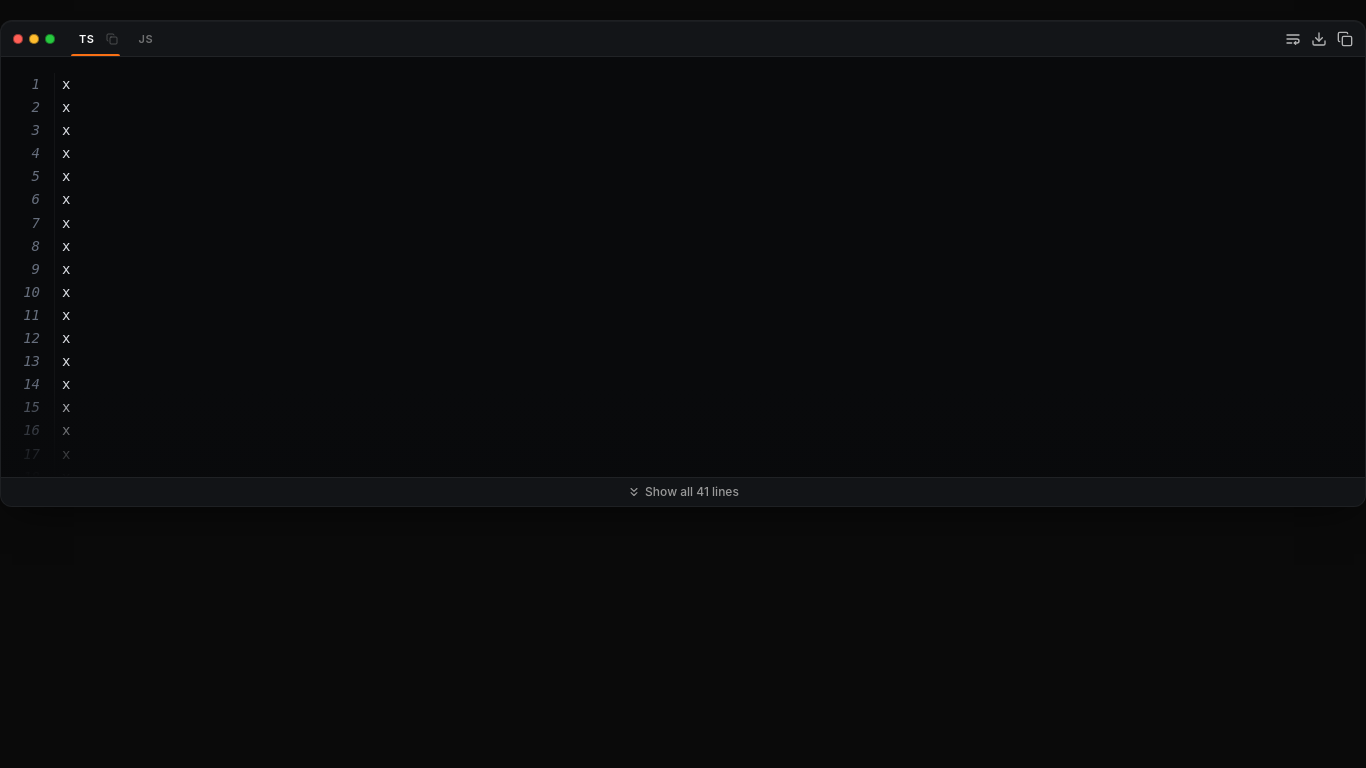
Test: CodeBlock tabs — persistence & a11y › persists collapsed/expanded state per group + tab
Later steps or results of the test are not shown.
// Default collapsed for long content.
Click the button "Show all 41 lines" at (683, 492), box [1,477,1365,506]
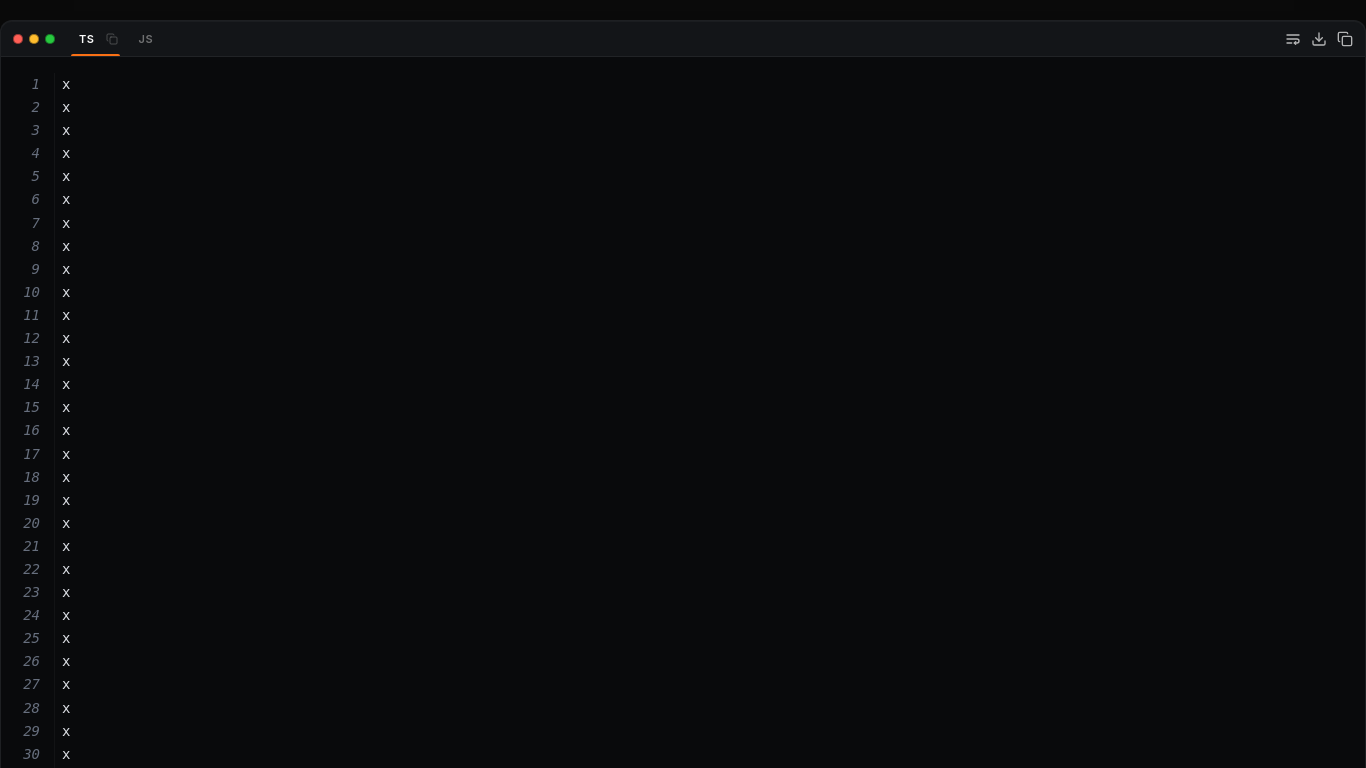
// Switch to js tab — should still default to collapsed (own key).
Click the tab "JS" at (143, 38), box [126,21,159,56]
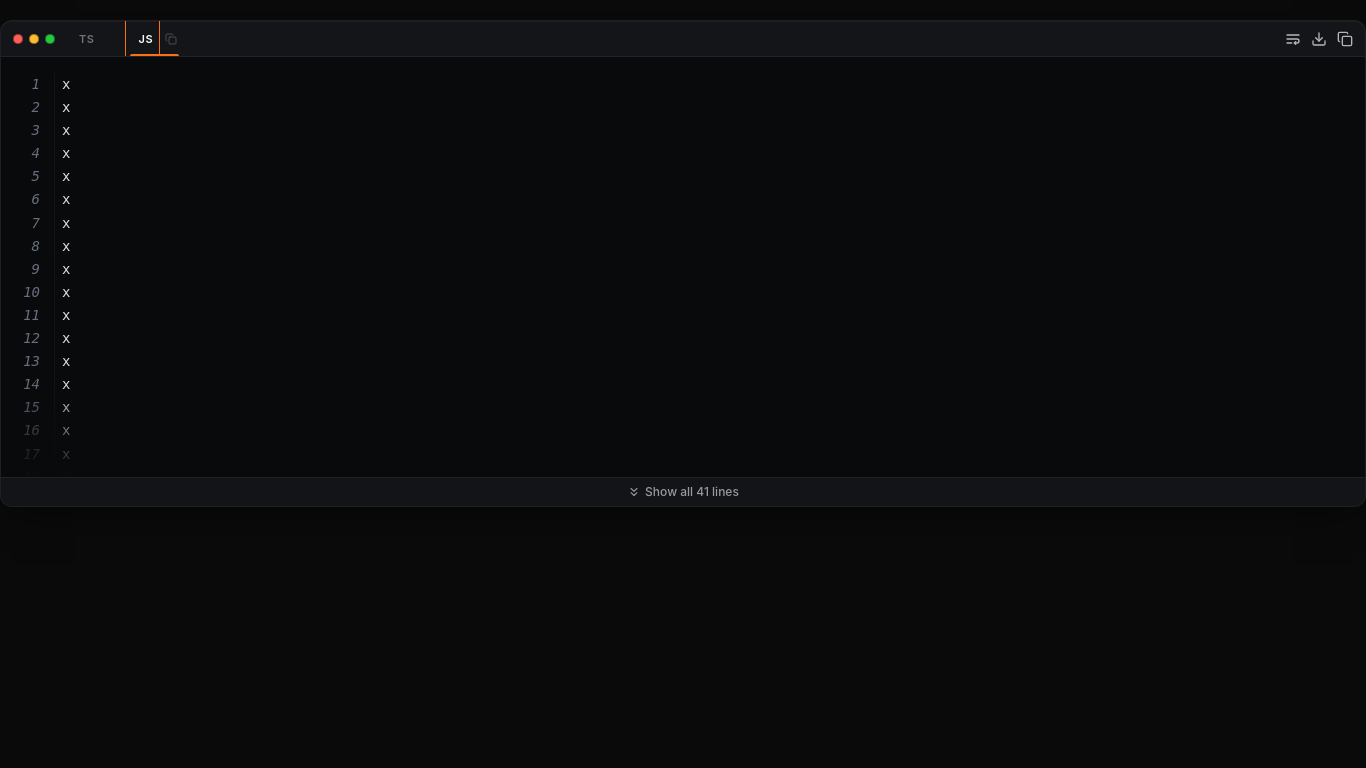
Now the button "Show all 41 lines" is shown, box [1,477,1365,506]
